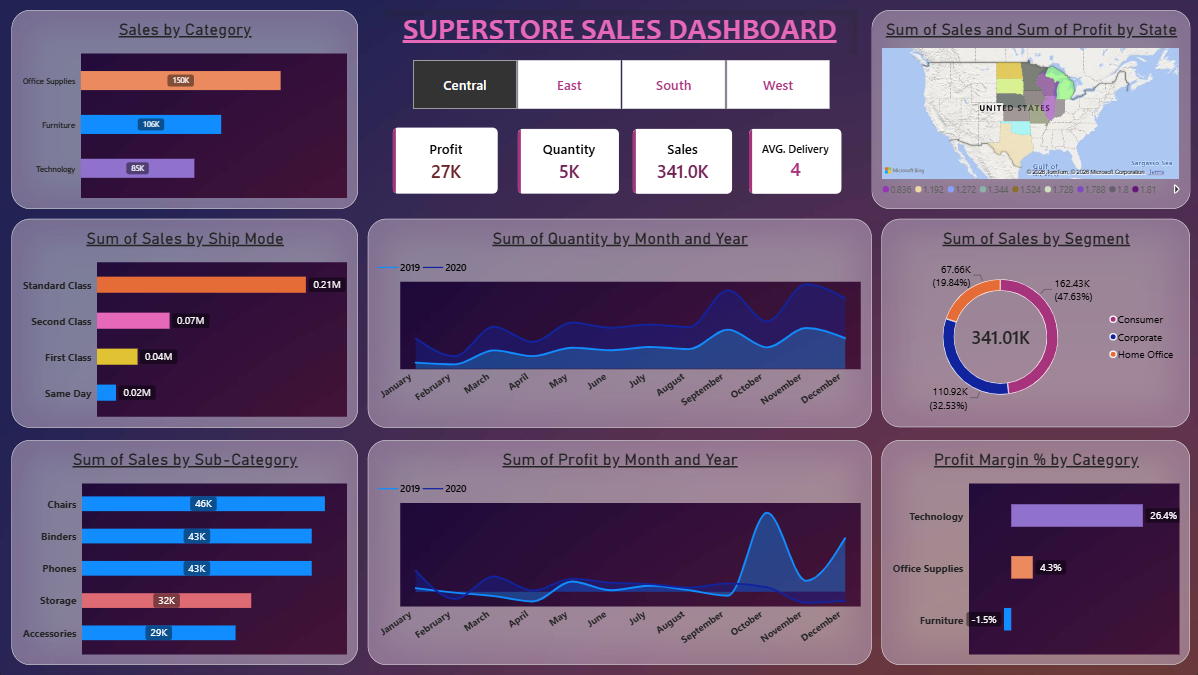

The page's visual inventory and layout, read from the dashboard file:
{"tool":"powerbi","page":{"name":"Page 1","canvas":[1920,1080],"ordinal":0},"visuals":[{"type":"textbox","box":[614,16,758,70],"z":0},{"type":"clusteredBarChart","title":"Sales by Category","fields":{"Category":["SuperStore_Sales_Dataset.Category"],"Y":["Sum(SuperStore_Sales_Dataset.Sales)"]},"box":[20,16,554,318],"z":1000},{"type":"clusteredBarChart","fields":{"Category":["SuperStore_Sales_Dataset.Ship Mode"],"Y":["Sum(SuperStore_Sales_Dataset.Sales)"]},"box":[20,350,554,334],"z":2000},{"type":"clusteredBarChart","fields":{"Category":["SuperStore_Sales_Dataset.Sub-Category"],"Y":["Sum(SuperStore_Sales_Dataset.Sales)"]},"box":[20,704,554,360],"z":3000},{"type":"stackedAreaChart","fields":{"Category":["SuperStore_Sales_Dataset.Order Date.Variation.Date Hierarchy.Month"],"Series":["SuperStore_Sales_Dataset.Order Date.Variation.Date Hierarchy.Year"],"Y":["Sum(SuperStore_Sales_Dataset.Quantity)"]},"box":[590,350,806,334],"z":4000},{"type":"areaChart","fields":{"Category":["SuperStore_Sales_Dataset.Order Date.Variation.Date Hierarchy.Month"],"Series":["SuperStore_Sales_Dataset.Order Date.Variation.Date Hierarchy.Year"],"Y":["Sum(SuperStore_Sales_Dataset.Profit)"]},"box":[590,704,806,360],"z":5000},{"type":"donutChart","fields":{"Category":["SuperStore_Sales_Dataset.Segment"],"Y":["Sum(SuperStore_Sales_Dataset.Sales)"]},"box":[1412,349.9,494,333.4],"z":6000},{"type":"clusteredBarChart","fields":{"Category":["SuperStore_Sales_Dataset.Category"],"Y":["SuperStore_Sales_Dataset.Profit Margin %"]},"box":[1412,703.9,494,360.2],"z":7000},{"type":"slicer","fields":{"Values":["SuperStore_Sales_Dataset.Region"]},"box":[642,94,706,82],"z":8000},{"type":"cardVisual","fields":{"Data":["Sum(SuperStore_Sales_Dataset.Profit)"]},"box":[629.8,204.5,168.3,106.8],"z":9000},{"type":"cardVisual","fields":{"Data":["Sum(SuperStore_Sales_Dataset.Quantity)"]},"box":[830.6,206.3,162.9,105],"z":10000},{"type":"cardVisual","fields":{"Data":["Sum(SuperStore_Sales_Dataset.Sales)"]},"box":[1013.4,206.3,159.3,105],"z":11000},{"type":"cardVisual","fields":{"Data":["Avg(SuperStore_Sales_Dataset.Ave_Delivery)"]},"box":[1199.8,206.3,148.4,105],"z":12000},{"type":"filledMap","title":"Sum of Sales and Sum of Profit by State","fields":{"Category":["SuperStore_Sales_Dataset.State"],"Series":["SuperStore_Sales_Dataset.Sales"]},"box":[1395.2,16.3,510.3,318.5],"z":13000}]}

Visuals, with their boxes in screenshot pixels (x1, y1, x2, y2), scaled from the page's 1920x1080 canvas onto the 1198x675 screenshot:
textbox: BBox(383, 10, 856, 54)
"Sales by Category" clusteredBarChart: BBox(12, 10, 358, 209)
clusteredBarChart - SuperStore_Sales_Dataset.Ship Mode x Sum(SuperStore_Sales_Dataset.Sales): BBox(12, 219, 358, 428)
clusteredBarChart - SuperStore_Sales_Dataset.Sub-Category x Sum(SuperStore_Sales_Dataset.Sales): BBox(12, 440, 358, 665)
stackedAreaChart - SuperStore_Sales_Dataset.Order Date.Variation.Date Hierarchy.Month x SuperStore_Sales_Dataset.Order Date.Variation.Date Hierarchy.Year: BBox(368, 219, 871, 428)
areaChart - SuperStore_Sales_Dataset.Order Date.Variation.Date Hierarchy.Month x SuperStore_Sales_Dataset.Order Date.Variation.Date Hierarchy.Year: BBox(368, 440, 871, 665)
donutChart - SuperStore_Sales_Dataset.Segment x Sum(SuperStore_Sales_Dataset.Sales): BBox(881, 219, 1189, 427)
clusteredBarChart - SuperStore_Sales_Dataset.Category x SuperStore_Sales_Dataset.Profit Margin %: BBox(881, 440, 1189, 665)
slicer - SuperStore_Sales_Dataset.Region: BBox(401, 59, 841, 110)
cardVisual - Sum(SuperStore_Sales_Dataset.Profit): BBox(393, 128, 498, 195)
cardVisual - Sum(SuperStore_Sales_Dataset.Quantity): BBox(518, 129, 620, 195)
cardVisual - Sum(SuperStore_Sales_Dataset.Sales): BBox(632, 129, 732, 195)
cardVisual - Avg(SuperStore_Sales_Dataset.Ave_Delivery): BBox(749, 129, 841, 195)
"Sum of Sales and Sum of Profit by State" filledMap: BBox(871, 10, 1189, 209)
